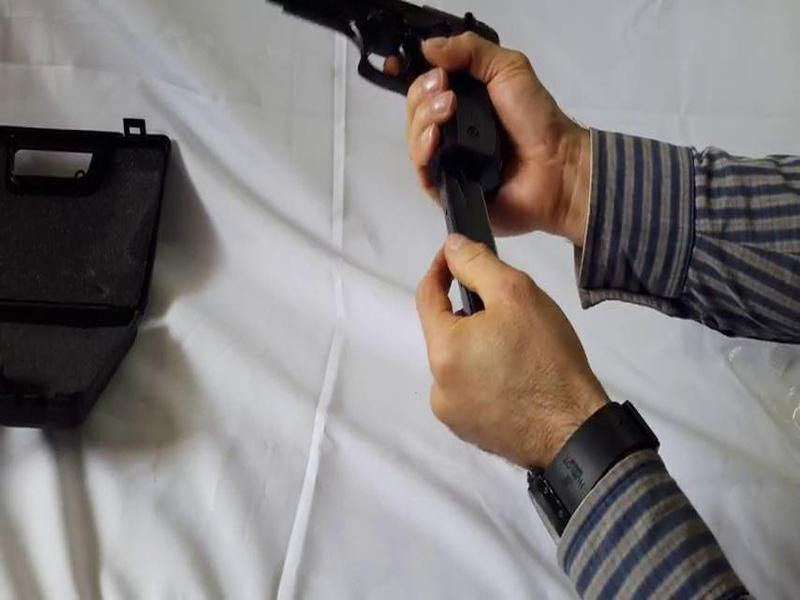Pistola: (262, 1, 530, 196)
